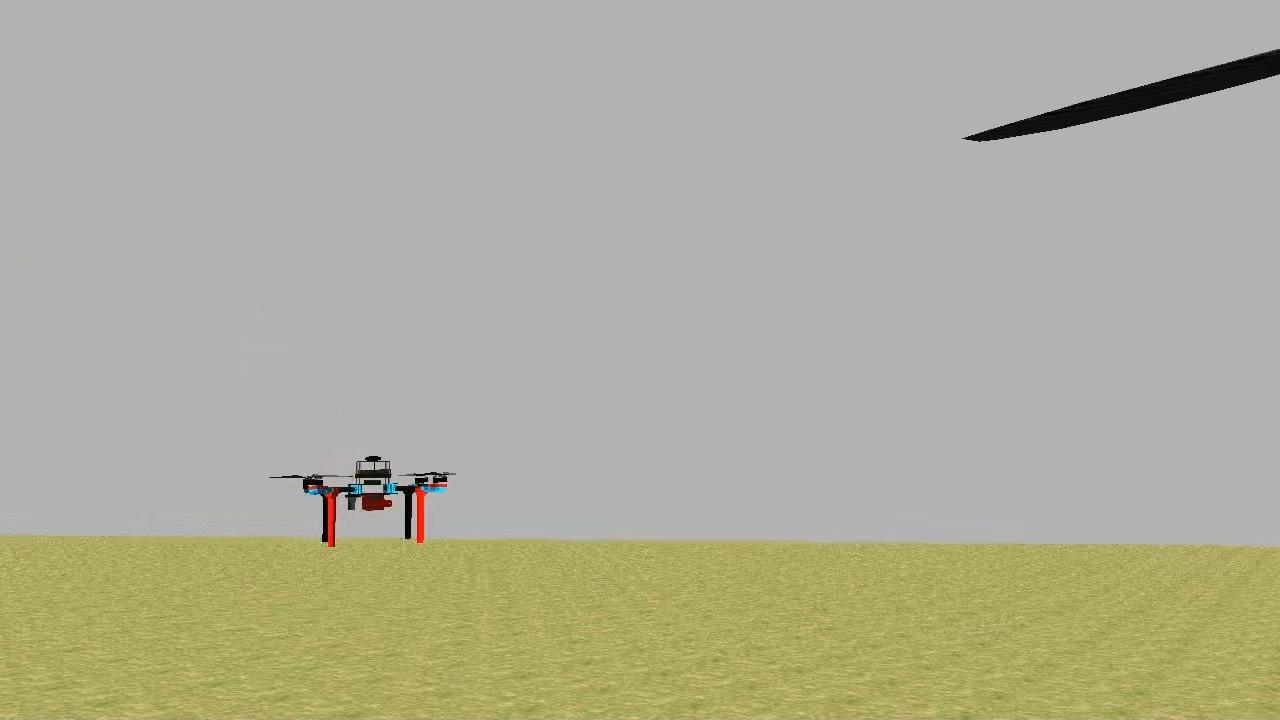UAV: (294, 454, 458, 554)
